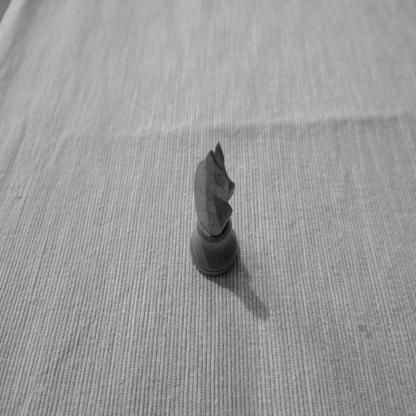white-knight: (189, 140, 239, 278)
